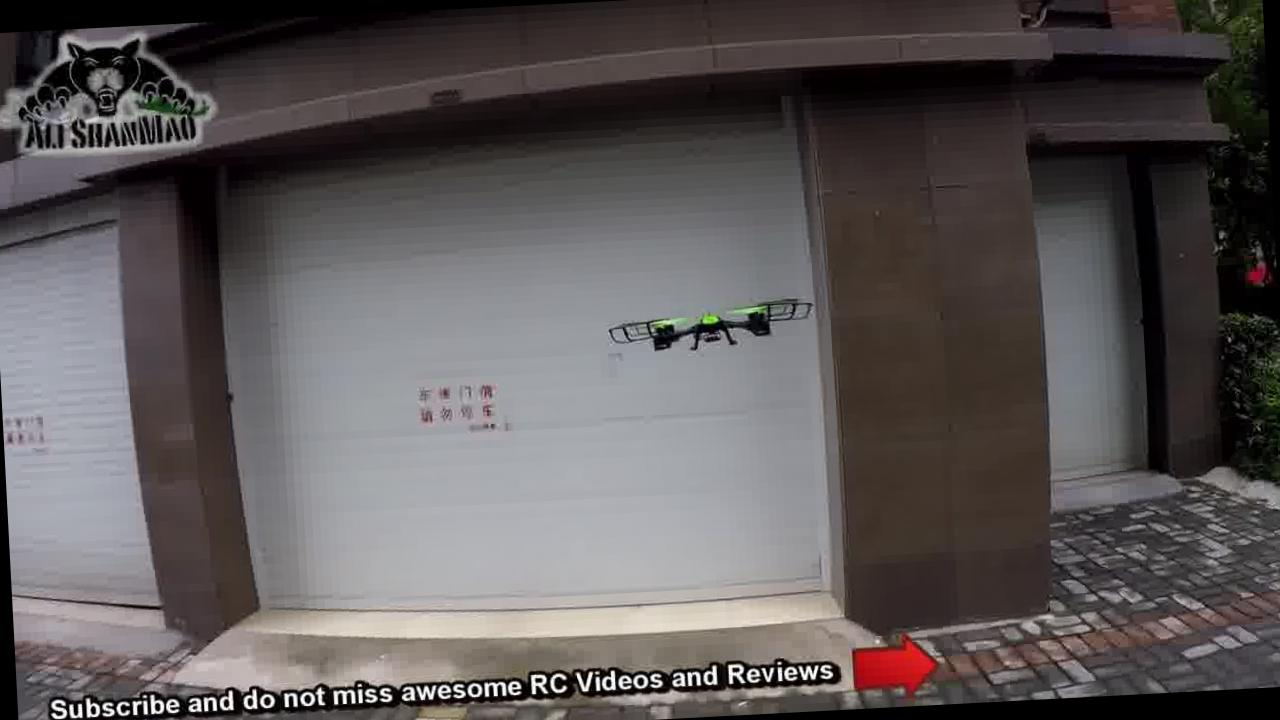drone: (606, 286, 822, 358)
